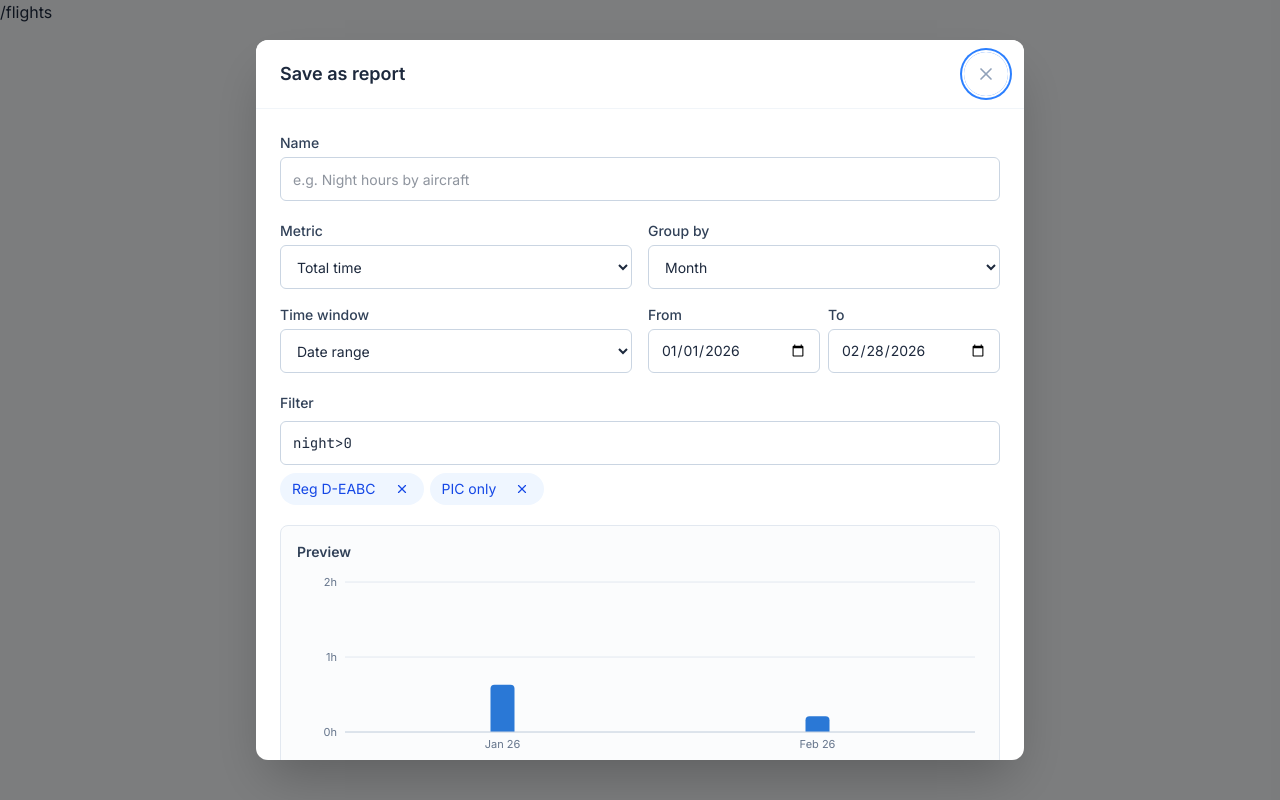
Test case: CustomReportDialog › removes a structured filter chip from the definition
Click the button named "Remove filter: Reg D-EABC" at (402, 489), box [380,467,424,511]
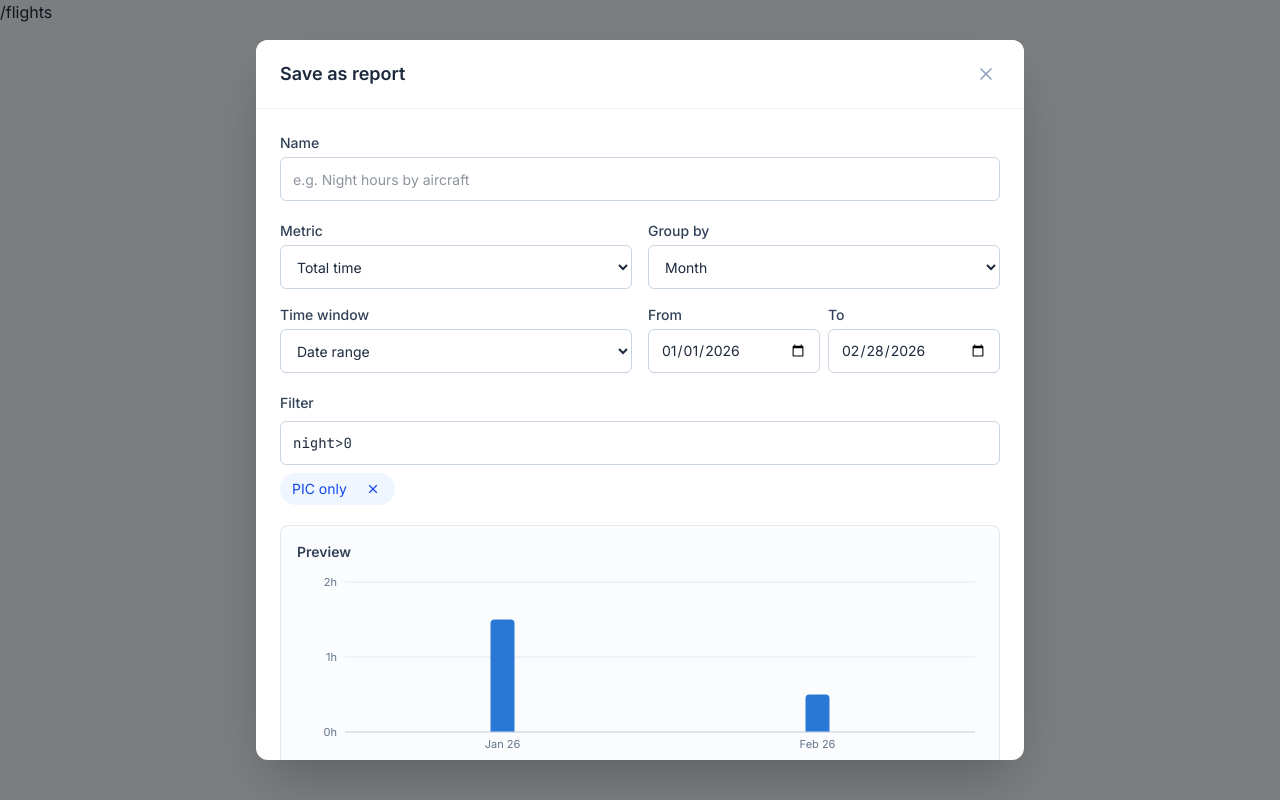
expect the list item "Reg D-EABC" is gone: met
